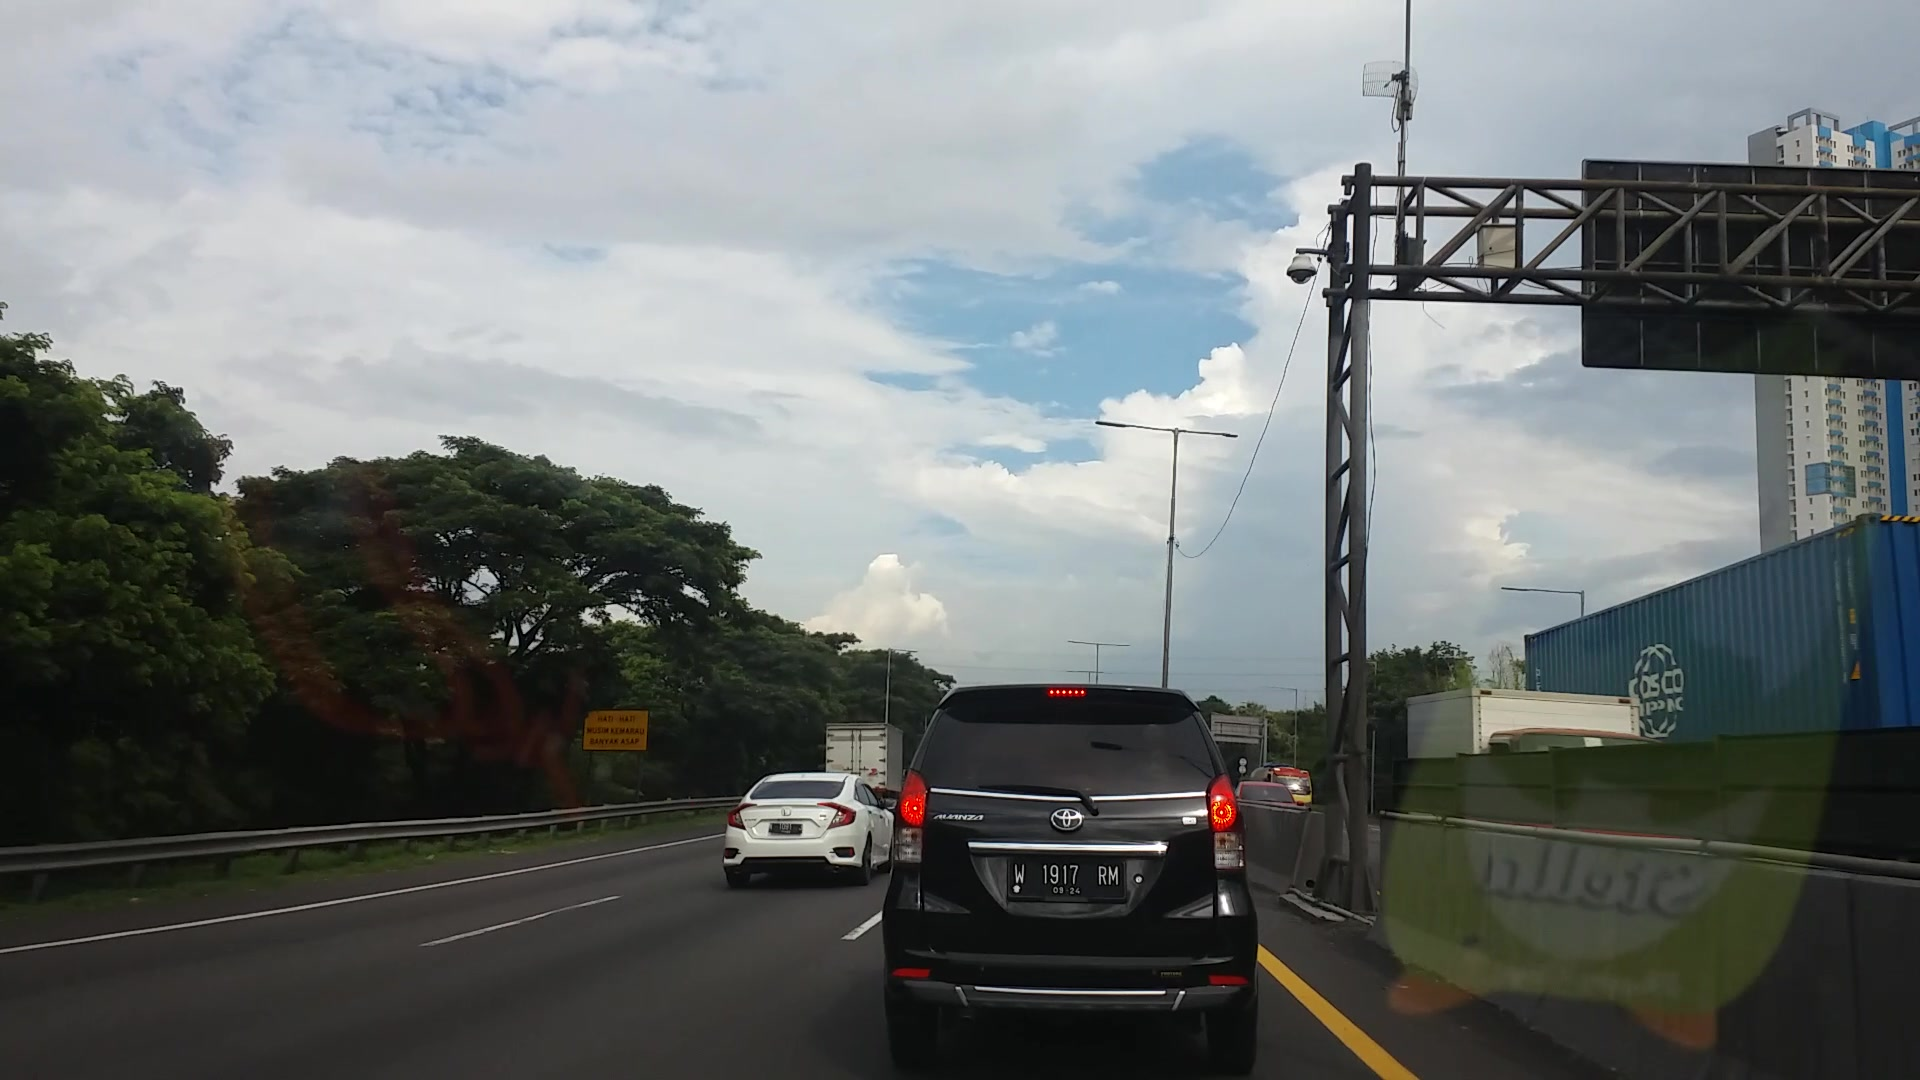plate_positive: (1006, 855, 1127, 905)
